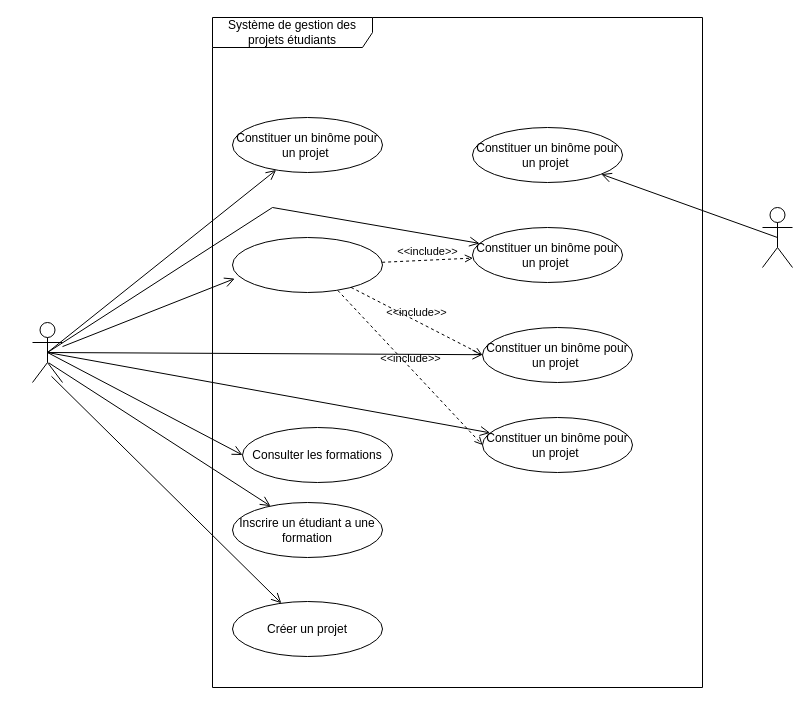
The diagram is 810 pixels wide and 705 high, and some of its shapes have lost their labels. The shapes that lost their labels are listed below. From the top down, each one's centre as x and y in pixels, then its label:
At pixel 777 237: "Actor".
At pixel 307 264: "Calculer la note finale (pénalite de retard)".
At pixel 47 352: "Enseignant".
